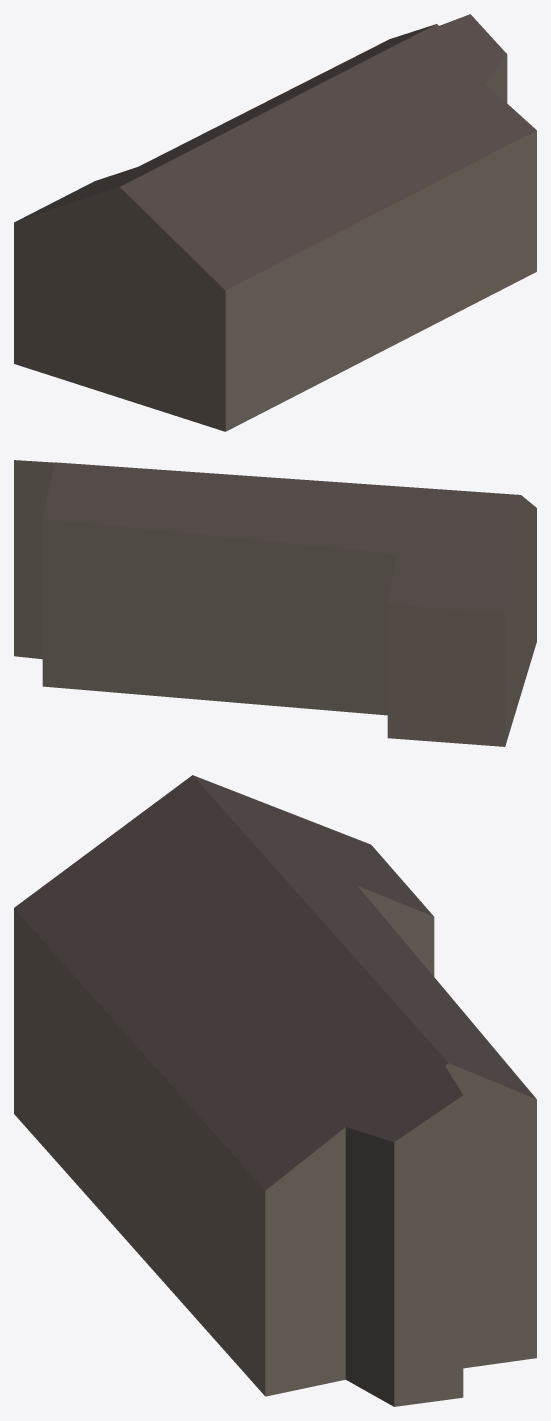
The picture shows the model from 3 angles, top to bottom: view 1: azimuth 30°, elevation 25°; view 2: azimuth 150°, elevation 25°; view 3: azimuth 270°, elevation 25°; orthographic projection. The views are drawn at different scales.
Parts seen in each view (by area): view 1: HP-w1516161977; view 2: HP-w1516161977; view 3: HP-w1516161977.
Boxes of the visible parts, bbox=[...] form: HP-w1516161977: bbox=[14, 14, 536, 431]; HP-w1516161977: bbox=[14, 460, 536, 746]; HP-w1516161977: bbox=[14, 775, 536, 1406].
Bounding box in the file's own units: 33.39 × 13.42 × 20.71.
